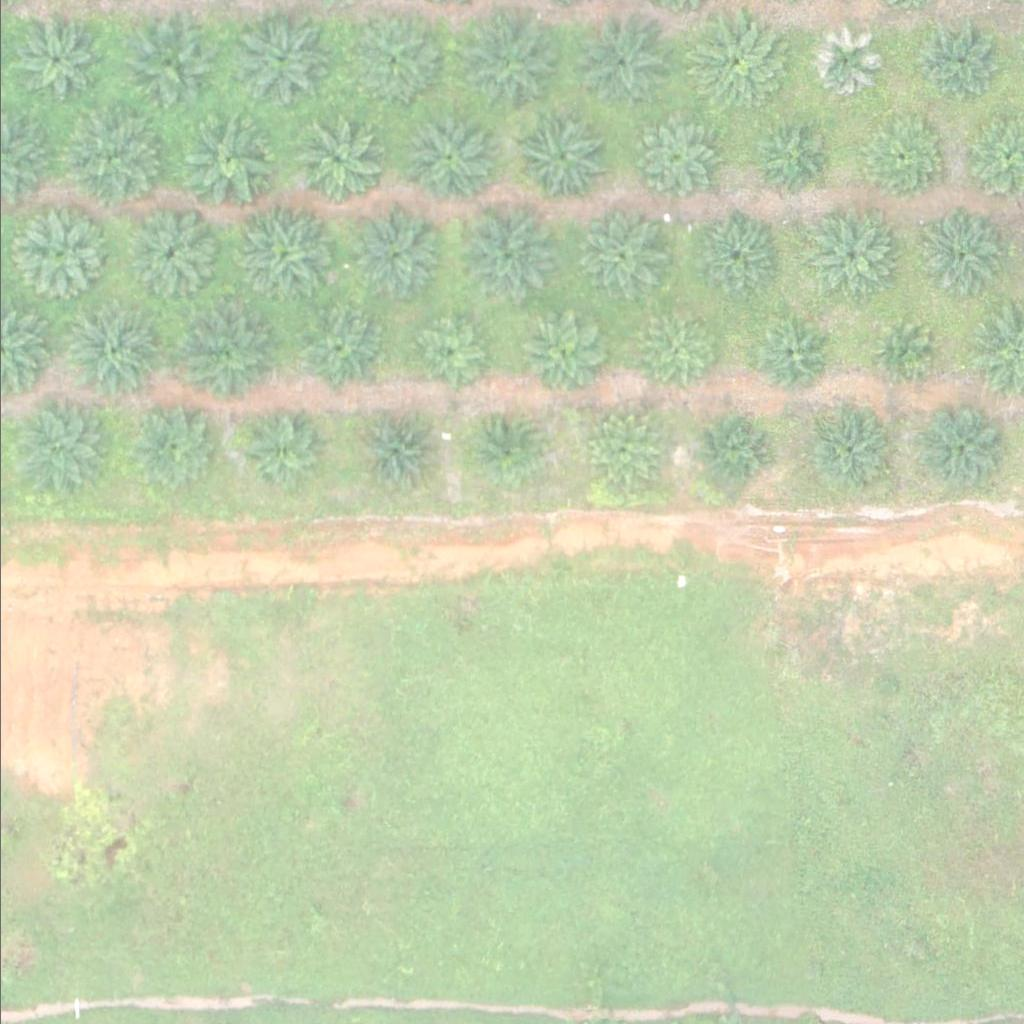Kelapa_Sawit: (687, 17, 788, 117), (453, 200, 554, 300), (622, 105, 723, 205), (512, 105, 613, 205), (572, 11, 673, 111), (119, 14, 220, 114), (66, 109, 167, 209), (6, 205, 107, 305), (61, 307, 162, 407), (173, 303, 273, 403), (234, 203, 334, 303), (177, 109, 277, 209), (457, 14, 557, 114), (230, 9, 330, 109), (854, 113, 943, 201), (687, 215, 776, 303), (122, 211, 211, 299), (748, 114, 836, 202), (230, 405, 318, 493), (913, 404, 1001, 492), (802, 405, 890, 493), (293, 308, 381, 396), (574, 210, 662, 298), (349, 209, 437, 297), (9, 16, 97, 104), (521, 306, 609, 393), (349, 409, 437, 496), (912, 211, 1000, 298), (802, 212, 890, 299), (401, 114, 489, 201), (290, 117, 378, 204), (341, 17, 429, 104), (129, 405, 217, 492), (14, 405, 102, 492), (750, 319, 825, 394), (408, 317, 483, 392), (587, 409, 662, 484), (695, 416, 770, 491), (918, 23, 993, 98), (804, 25, 879, 100), (639, 311, 714, 386), (476, 414, 539, 477), (867, 321, 930, 384)
